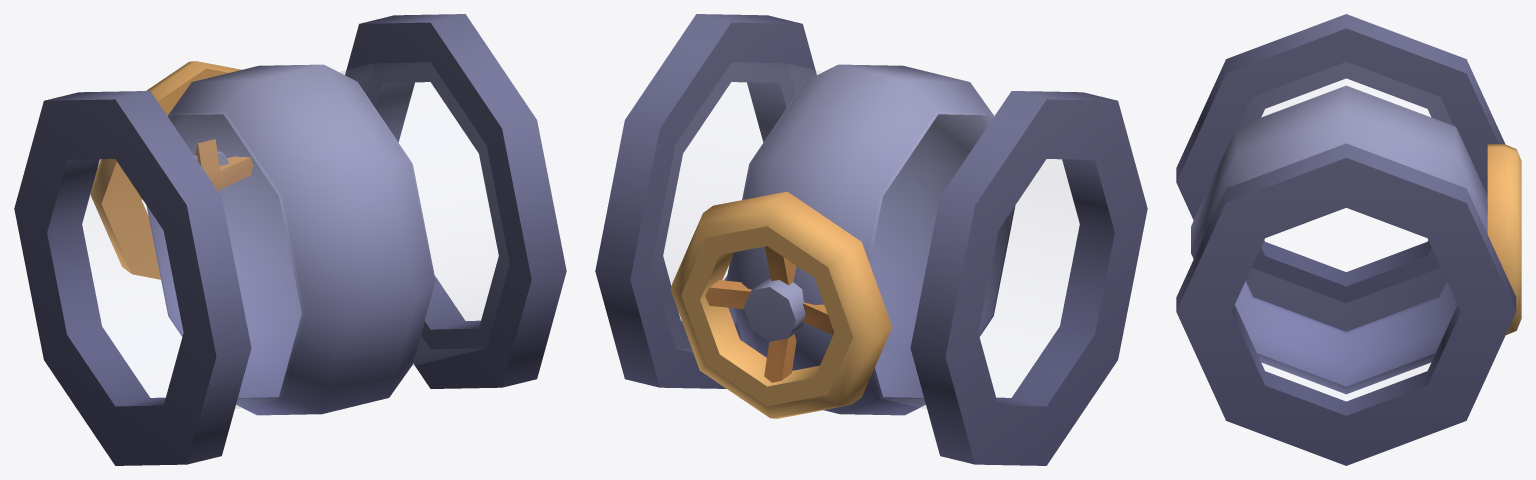
File: kenney-factory-pipe-glass-large-valve.glb
3 renders of one model, left to right at view 1: azimuth 30°, elevation 25°; view 2: azimuth 150°, elevation 25°; view 3: azimuth 270°, elevation 25°, orthographic. The views are drawn at different scales.
Visible parts, largest first — view 1: pipe-glass-large-valve; view 2: pipe-glass-large-valve; view 3: pipe-glass-large-valve.
Boxes of the visible parts, bbox=[...] form: pipe-glass-large-valve: bbox=[14, 14, 566, 465]; pipe-glass-large-valve: bbox=[595, 14, 1147, 465]; pipe-glass-large-valve: bbox=[1176, 14, 1521, 465].
Size of the model in its own units: 1.5 by 1.5 by 1.52.
2 materials, 1 textured.
